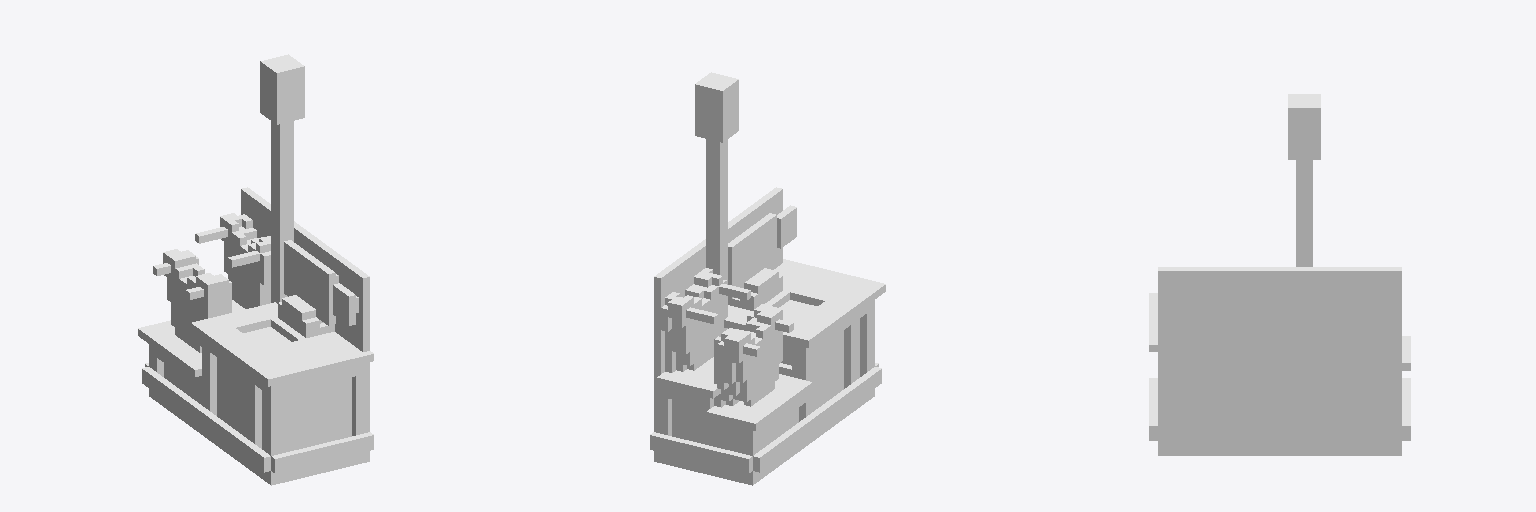
File: SCOv1.2.obj
3 views of the same model, side by side, from view 1: azimuth 30°, elevation 25°; view 2: azimuth 150°, elevation 25°; view 3: azimuth 270°, elevation 25° (orthographic).
Visible parts, largest first — view 1: object 1; view 2: object 1; view 3: object 1.
Boxes of the visible parts, x1,y1,x2,y2 form: object 1: [138, 54, 373, 485]; object 1: [650, 72, 885, 485]; object 1: [1149, 94, 1410, 455].
Size of the model in its own units: 1.5 by 4.7 by 3.2.